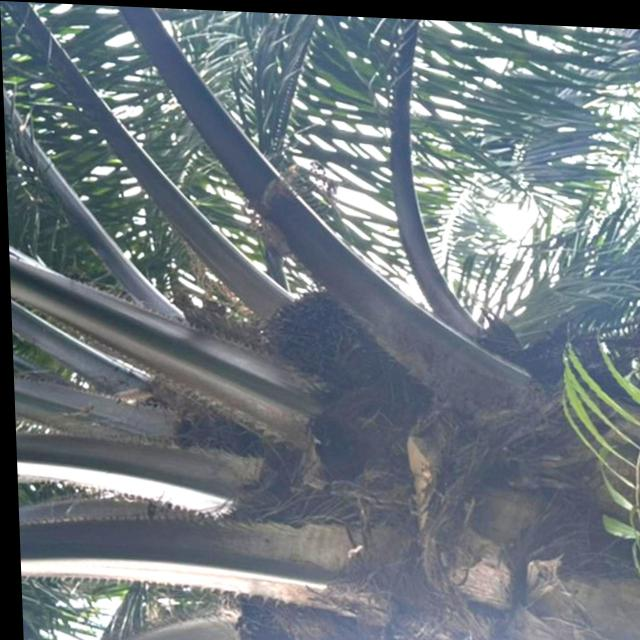unripe: (256, 275, 364, 383)
